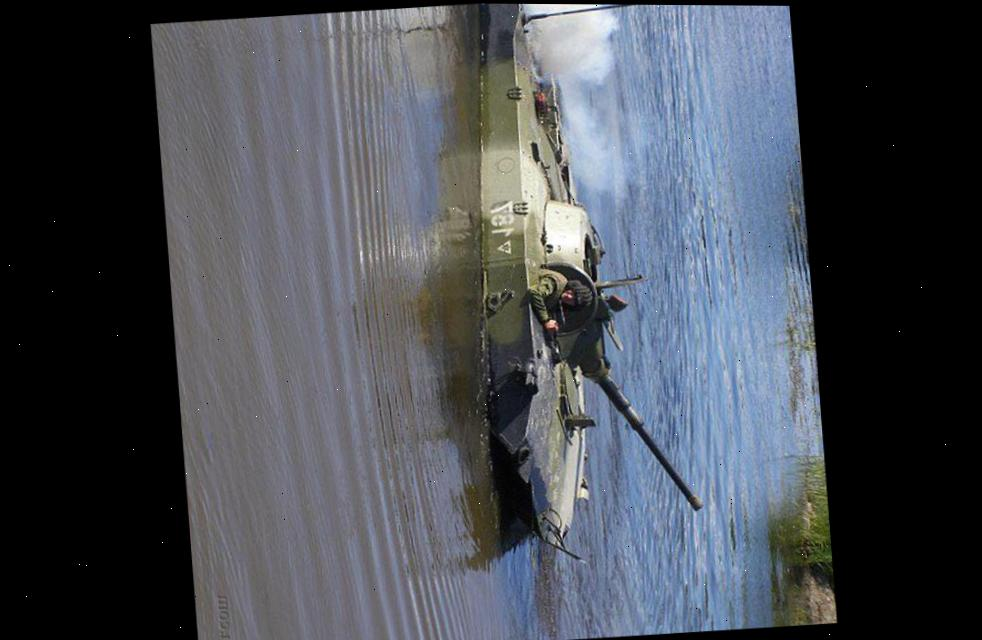tank: (455, 3, 707, 567)
